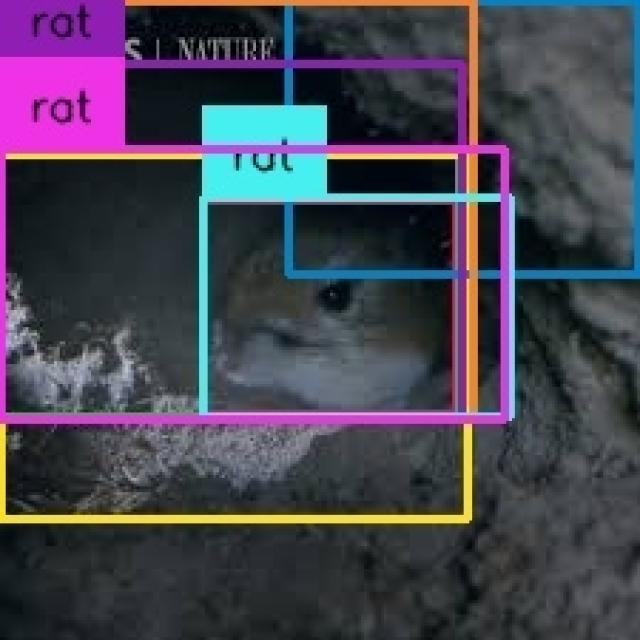rat: (1, 2, 474, 420), (0, 153, 469, 517), (0, 66, 461, 418), (1, 151, 505, 418), (2, 154, 460, 418), (287, 0, 640, 276), (204, 199, 511, 415), (204, 200, 456, 414)
